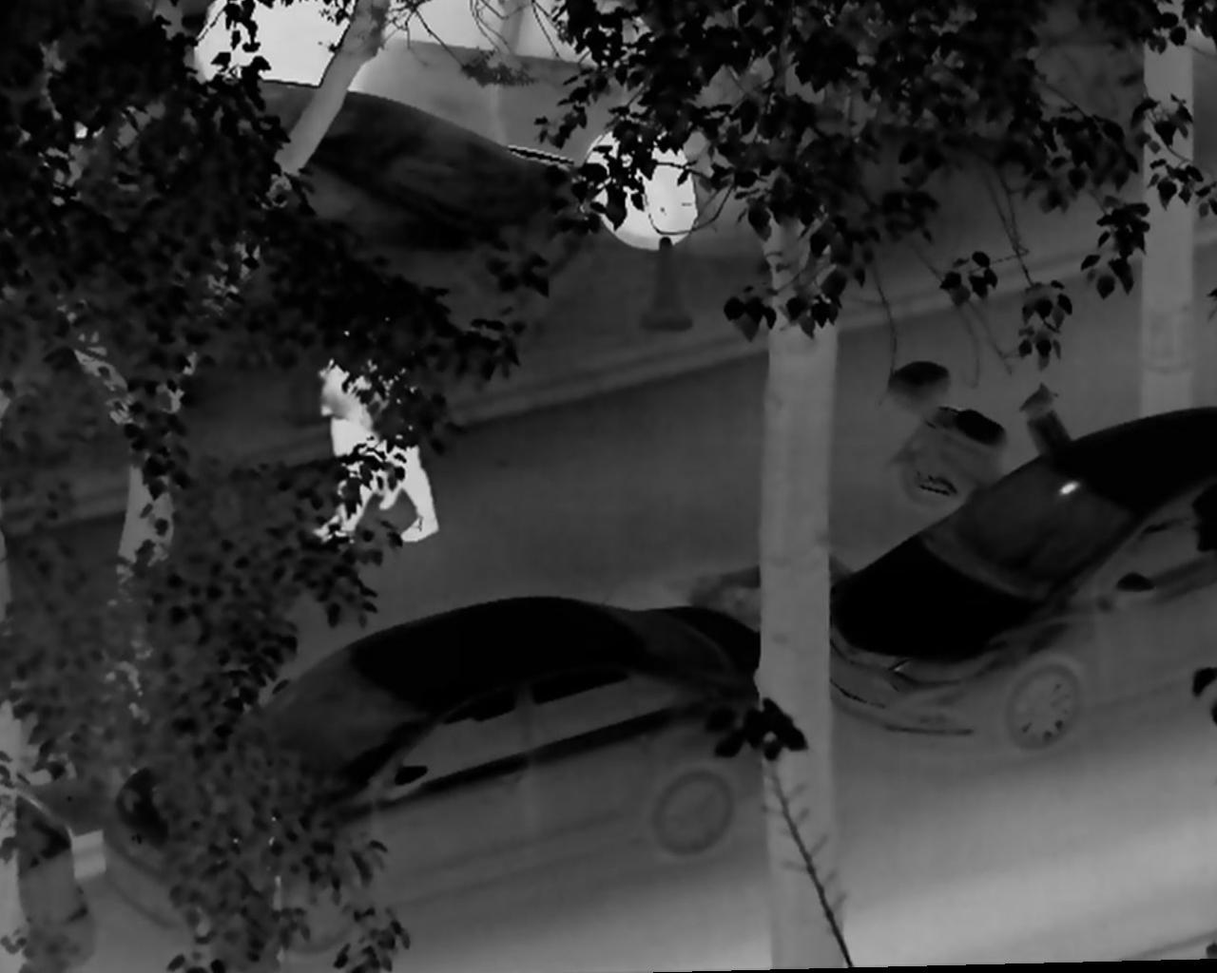person: (330, 304, 451, 551), (306, 314, 409, 547)
